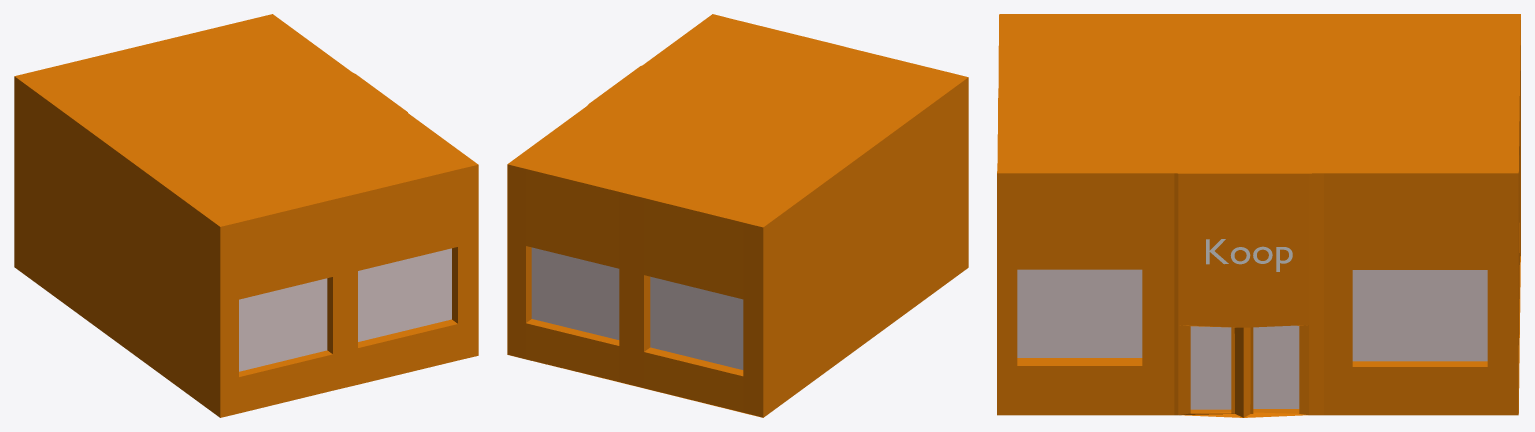
File: Koop.fbx
3 renders of one model, left to right at view 1: azimuth 30°, elevation 25°; view 2: azimuth 150°, elevation 25°; view 3: azimuth 270°, elevation 25°, orthographic. The views are drawn at different scales.
Visible parts, largest first — view 1: Cube; view 2: Cube; view 3: Cube, Text.
Part boxes in pixels (x1,y1,x2,y2): Cube: [14, 14, 478, 417]; Cube: [507, 14, 968, 417]; Cube: [997, 14, 1520, 417]; Text: [1206, 239, 1292, 271].
Size of the model in its own units: 961 by 661 by 1294.
